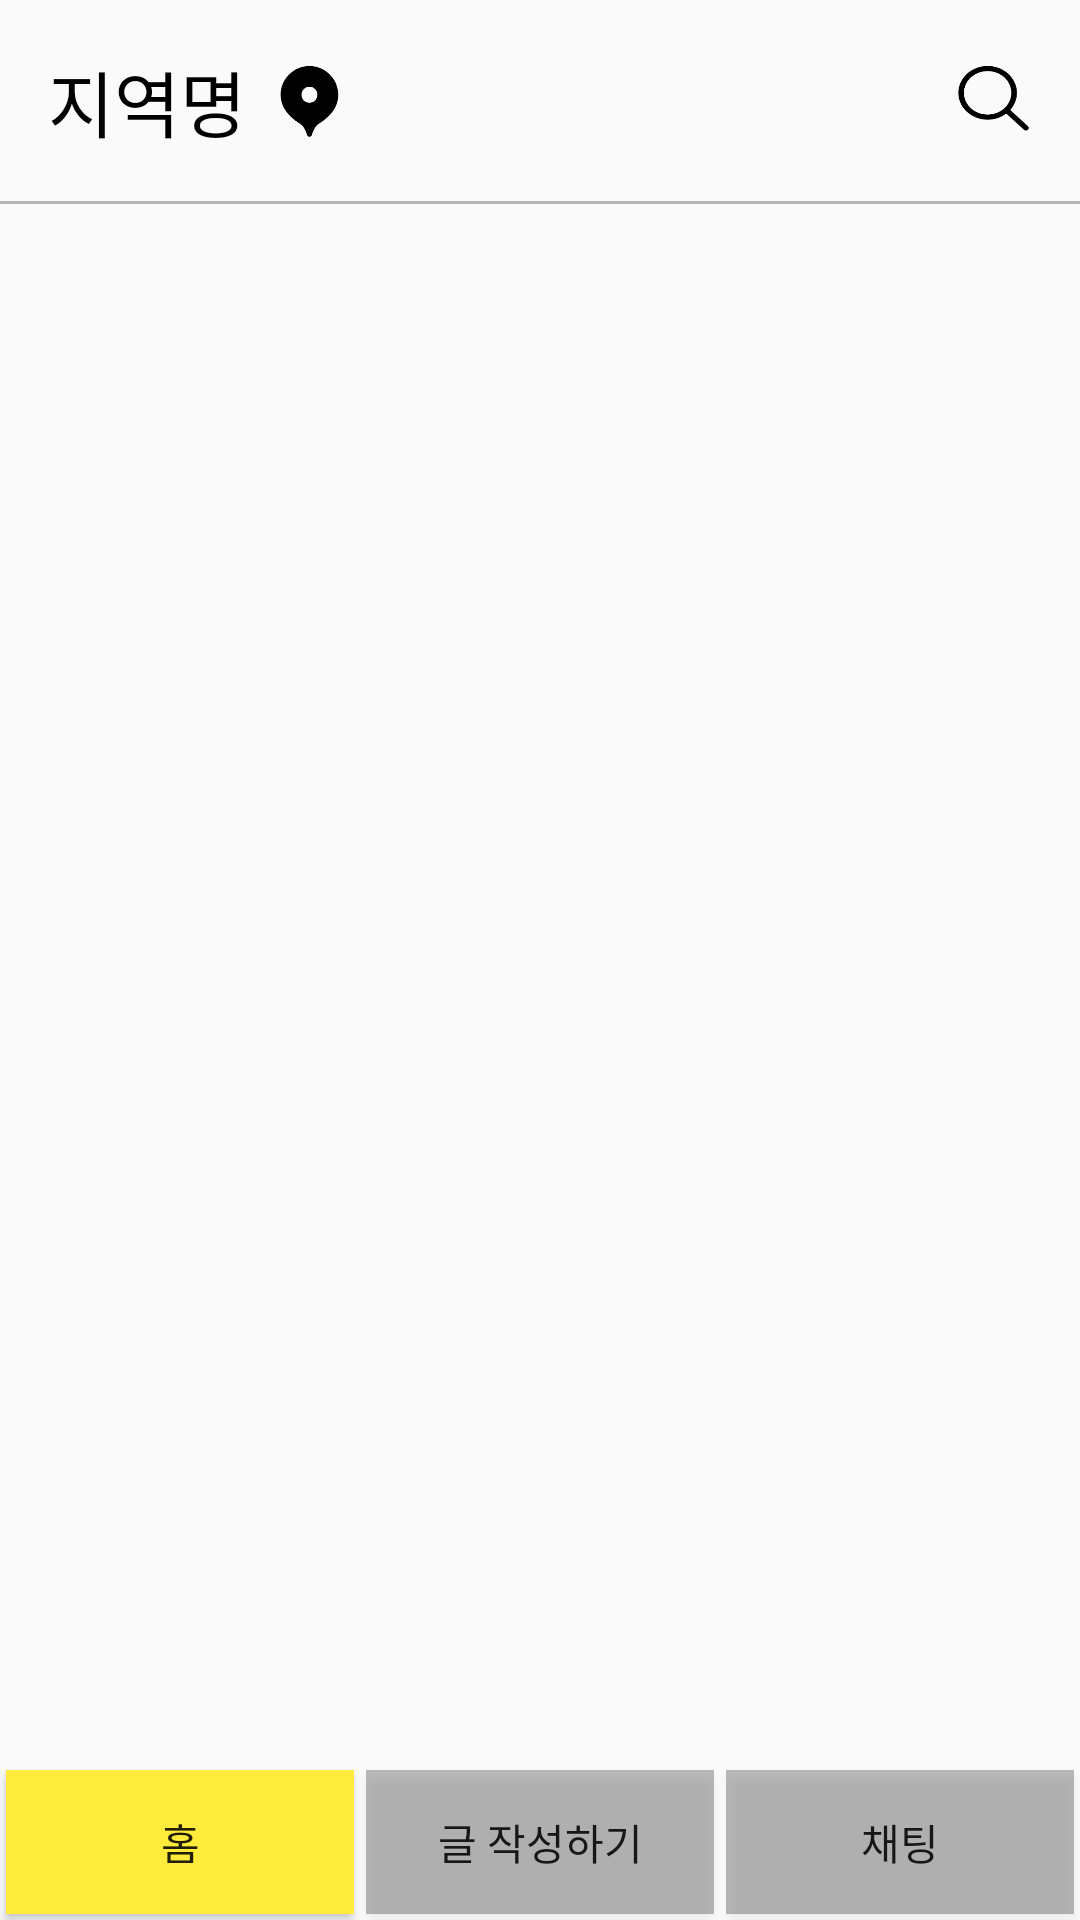

Point at icon controls on the screen. Image size 1080 x 1920, points as (x,y).
maps: (309,101)
search: (993,98)
